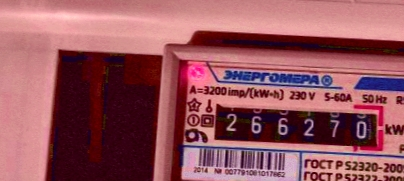0: (354, 117, 369, 138)
2: (224, 110, 240, 131), (301, 115, 317, 136)
6: (276, 114, 291, 135), (250, 112, 264, 133)
7: (328, 116, 341, 136)
screen: (205, 91, 392, 155)
